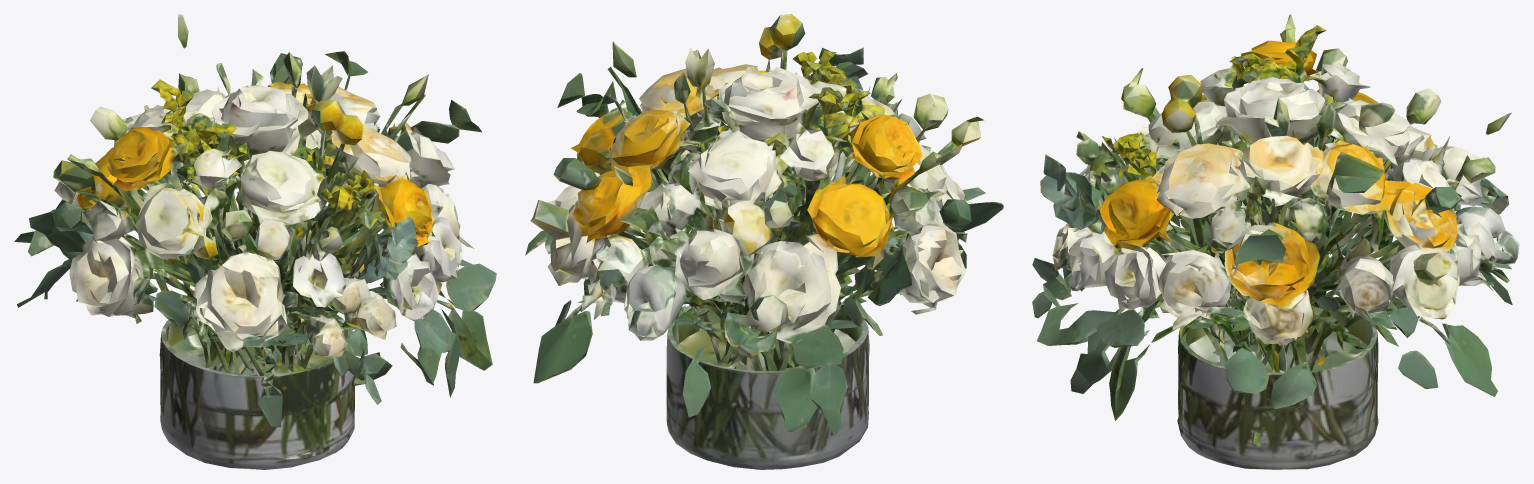
Rendered from aholo-20261119-table-flower-arrangement.glb.
The picture shows the model from 3 angles, left to right: view 1: azimuth 30°, elevation 25°; view 2: azimuth 150°, elevation 25°; view 3: azimuth 270°, elevation 25°; orthographic projection. The views are drawn at different scales.
Visible parts, largest first — view 1: geometry_0; view 2: geometry_0; view 3: geometry_0.
Part boxes in pixels (x1=…): geometry_0: x1=14, y1=14, x2=496, y2=469; geometry_0: x1=525, y1=14, x2=1003, y2=469; geometry_0: x1=1032, y1=14, x2=1519, y2=469.
Bounding box in the file's own units: 0.55 × 0.4644 × 0.5567.
1 material, 1 textured.
